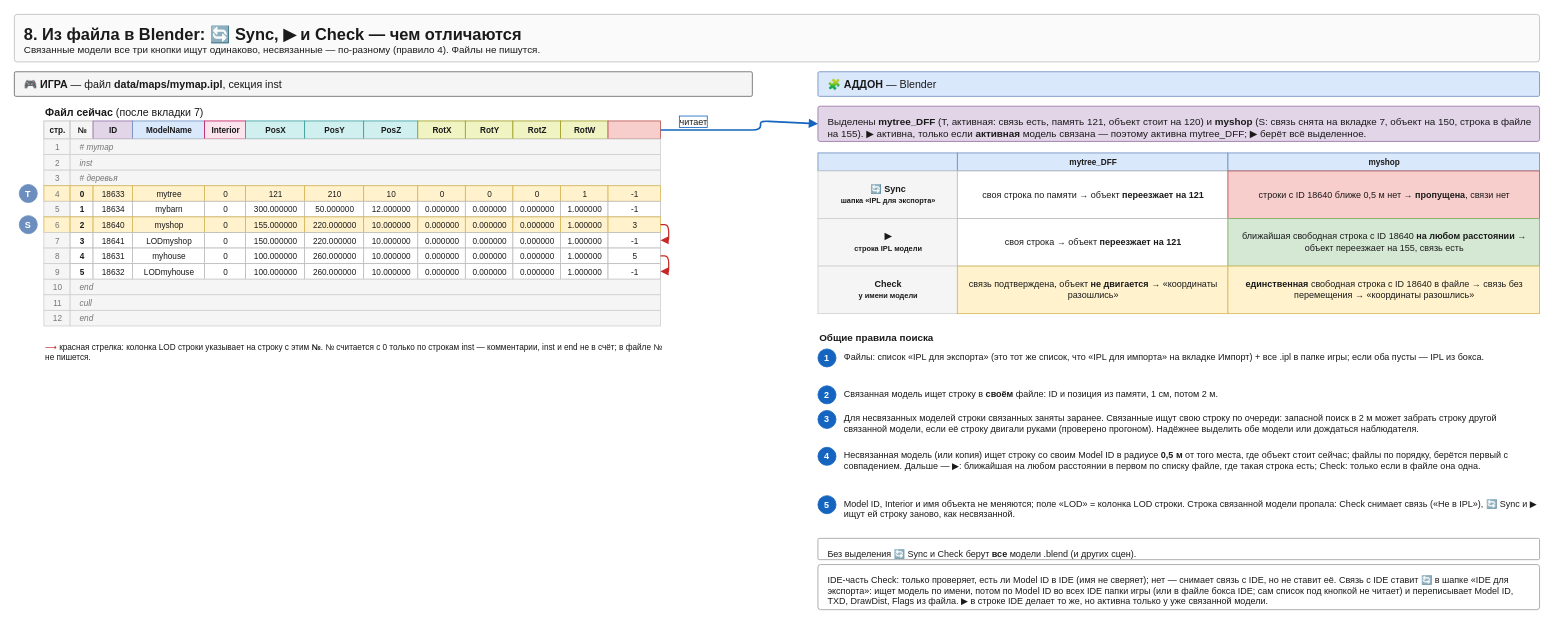
Image size: 1554x624. Some labels were removed from this diagram. Here are the shapes that lost their labels. From the top down, the centre of each, then its label:
(634,129): LOD
(887,161): кнопка
